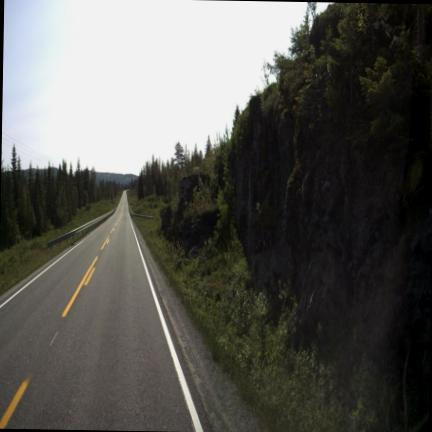Road: (0, 193, 203, 430)
